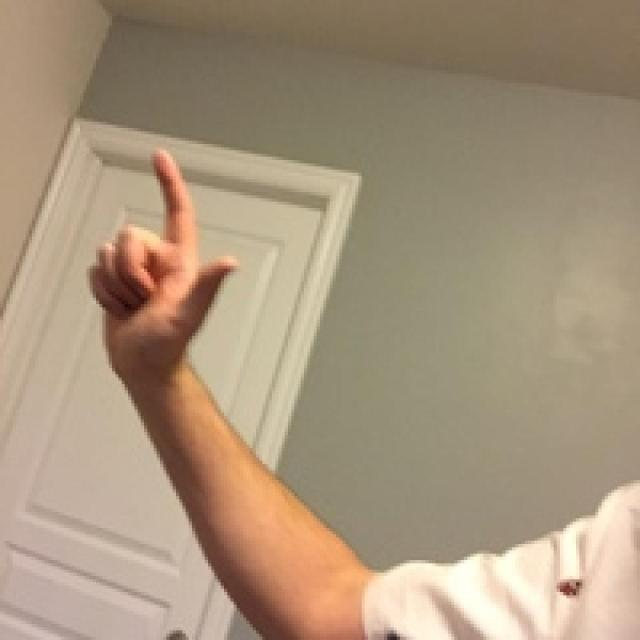L: (40, 112, 298, 430)
